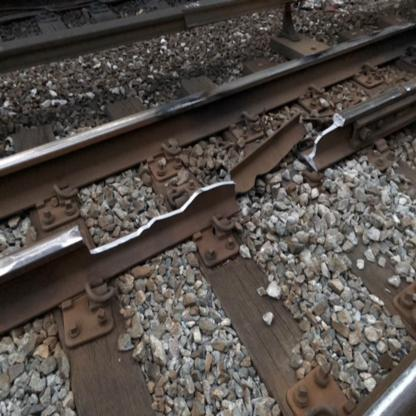Defective: (13, 76, 374, 266)
